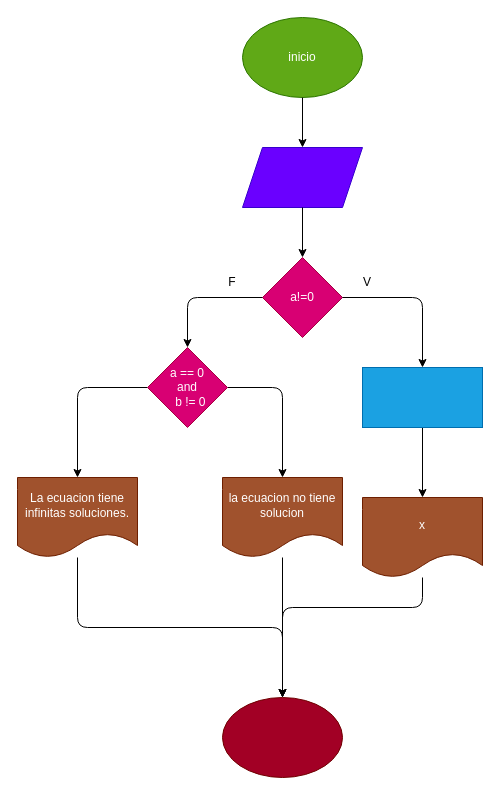
This 500x795 diagram has some shape labels left out. Here are the shapes that lost their labels. From the top down, the centre of each, then its label:
At (302,177): "a,b,c".
At (422,397): "x = (c-b)/a".
At (282,737): "fin".
